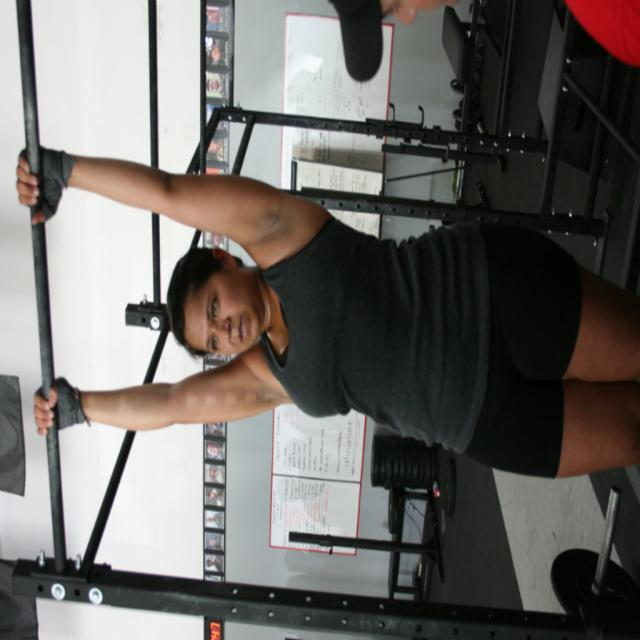Person: (15, 144, 640, 480), (326, 0, 640, 83)
